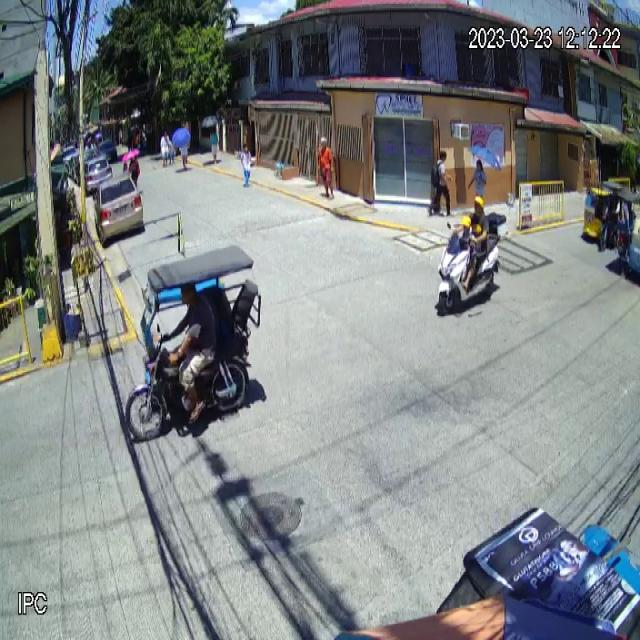Car: (94, 172, 144, 243)
Motorcycle: (438, 212, 508, 316)
Tricycle: (126, 244, 262, 443)
